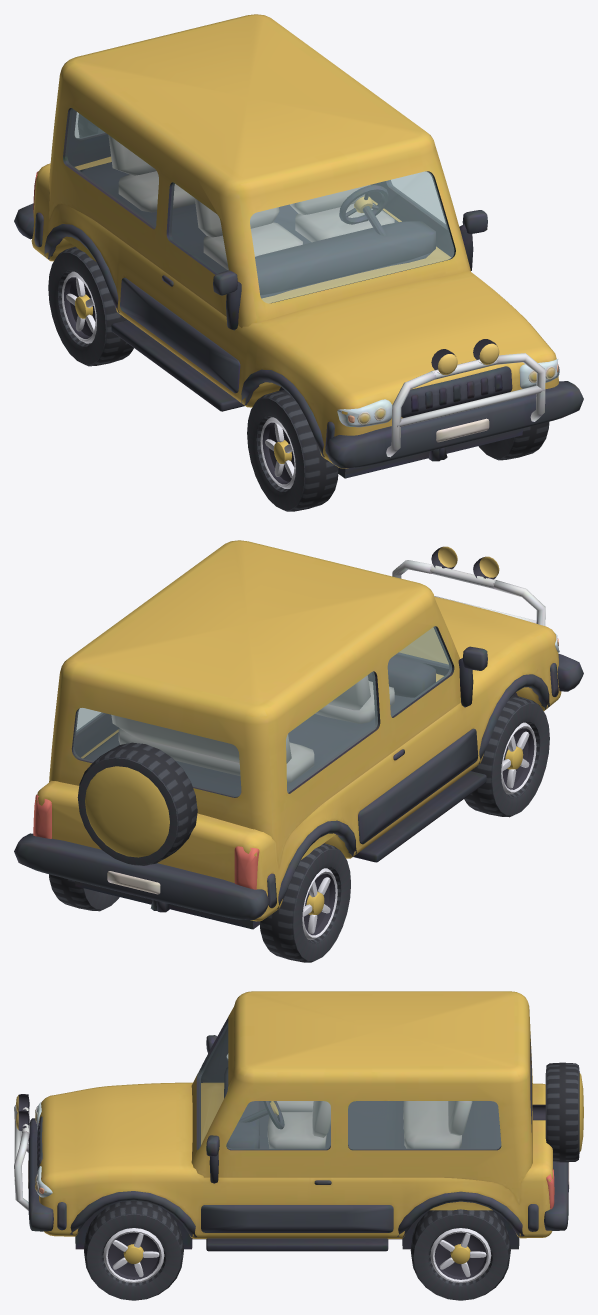
The model's file is 1990s-off-roader.glb.
3 renders of one model, top to bottom at view 1: azimuth 30°, elevation 25°; view 2: azimuth 150°, elevation 25°; view 3: azimuth 270°, elevation 25°, orthographic. The views are drawn at different scales.
Visible parts, largest first — view 1: 1990s-off-roader_body, 1990s-off-roader_windows, 1990s-off-roader_wheel_fr, 1990s-off-roader_wheel_rr, 1990s-off-roader_wheel_fl, 1990s-off-roader_fog_lights; view 2: 1990s-off-roader_body, 1990s-off-roader_windows, 1990s-off-roader_spare_tyre, 1990s-off-roader_wheel_rr, 1990s-off-roader_wheel_fr, 1990s-off-roader_wheel_rl, 1990s-off-roader_fog_lights; view 3: 1990s-off-roader_body, 1990s-off-roader_windows, 1990s-off-roader_wheel_fl, 1990s-off-roader_wheel_rl, 1990s-off-roader_spare_tyre, 1990s-off-roader_fog_lights.
Part boxes in pixels (bbox=[...]): 1990s-off-roader_body: bbox=[14, 14, 583, 478]; 1990s-off-roader_windows: bbox=[65, 108, 454, 303]; 1990s-off-roader_wheel_fr: bbox=[247, 390, 338, 511]; 1990s-off-roader_wheel_rr: bbox=[48, 246, 133, 366]; 1990s-off-roader_wheel_fl: bbox=[478, 422, 549, 460]; 1990s-off-roader_fog_lights: bbox=[431, 339, 499, 374]; 1990s-off-roader_body: bbox=[14, 540, 583, 929]; 1990s-off-roader_windows: bbox=[73, 626, 451, 796]; 1990s-off-roader_spare_tyre: bbox=[77, 742, 197, 865]; 1990s-off-roader_wheel_rr: bbox=[260, 843, 350, 962]; 1990s-off-roader_wheel_fr: bbox=[464, 695, 549, 817]; 1990s-off-roader_wheel_rl: bbox=[49, 874, 119, 911]; 1990s-off-roader_fog_lights: bbox=[431, 546, 499, 579]; 1990s-off-roader_body: bbox=[14, 991, 569, 1251]; 1990s-off-roader_windows: bbox=[199, 1023, 500, 1149]; 1990s-off-roader_wheel_fl: bbox=[84, 1201, 183, 1300]; 1990s-off-roader_wheel_rl: bbox=[410, 1209, 510, 1300]; 1990s-off-roader_spare_tyre: bbox=[532, 1062, 583, 1162]; 1990s-off-roader_fog_lights: bbox=[16, 1094, 29, 1130].
Bounding box in the file's own units: 1.95 × 1.87 × 4.32.
4 materials, 4 textured.
